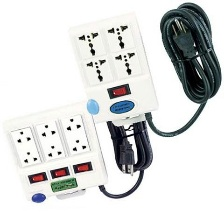three_eye_plug: (0, 98, 113, 204), (63, 7, 162, 127)
